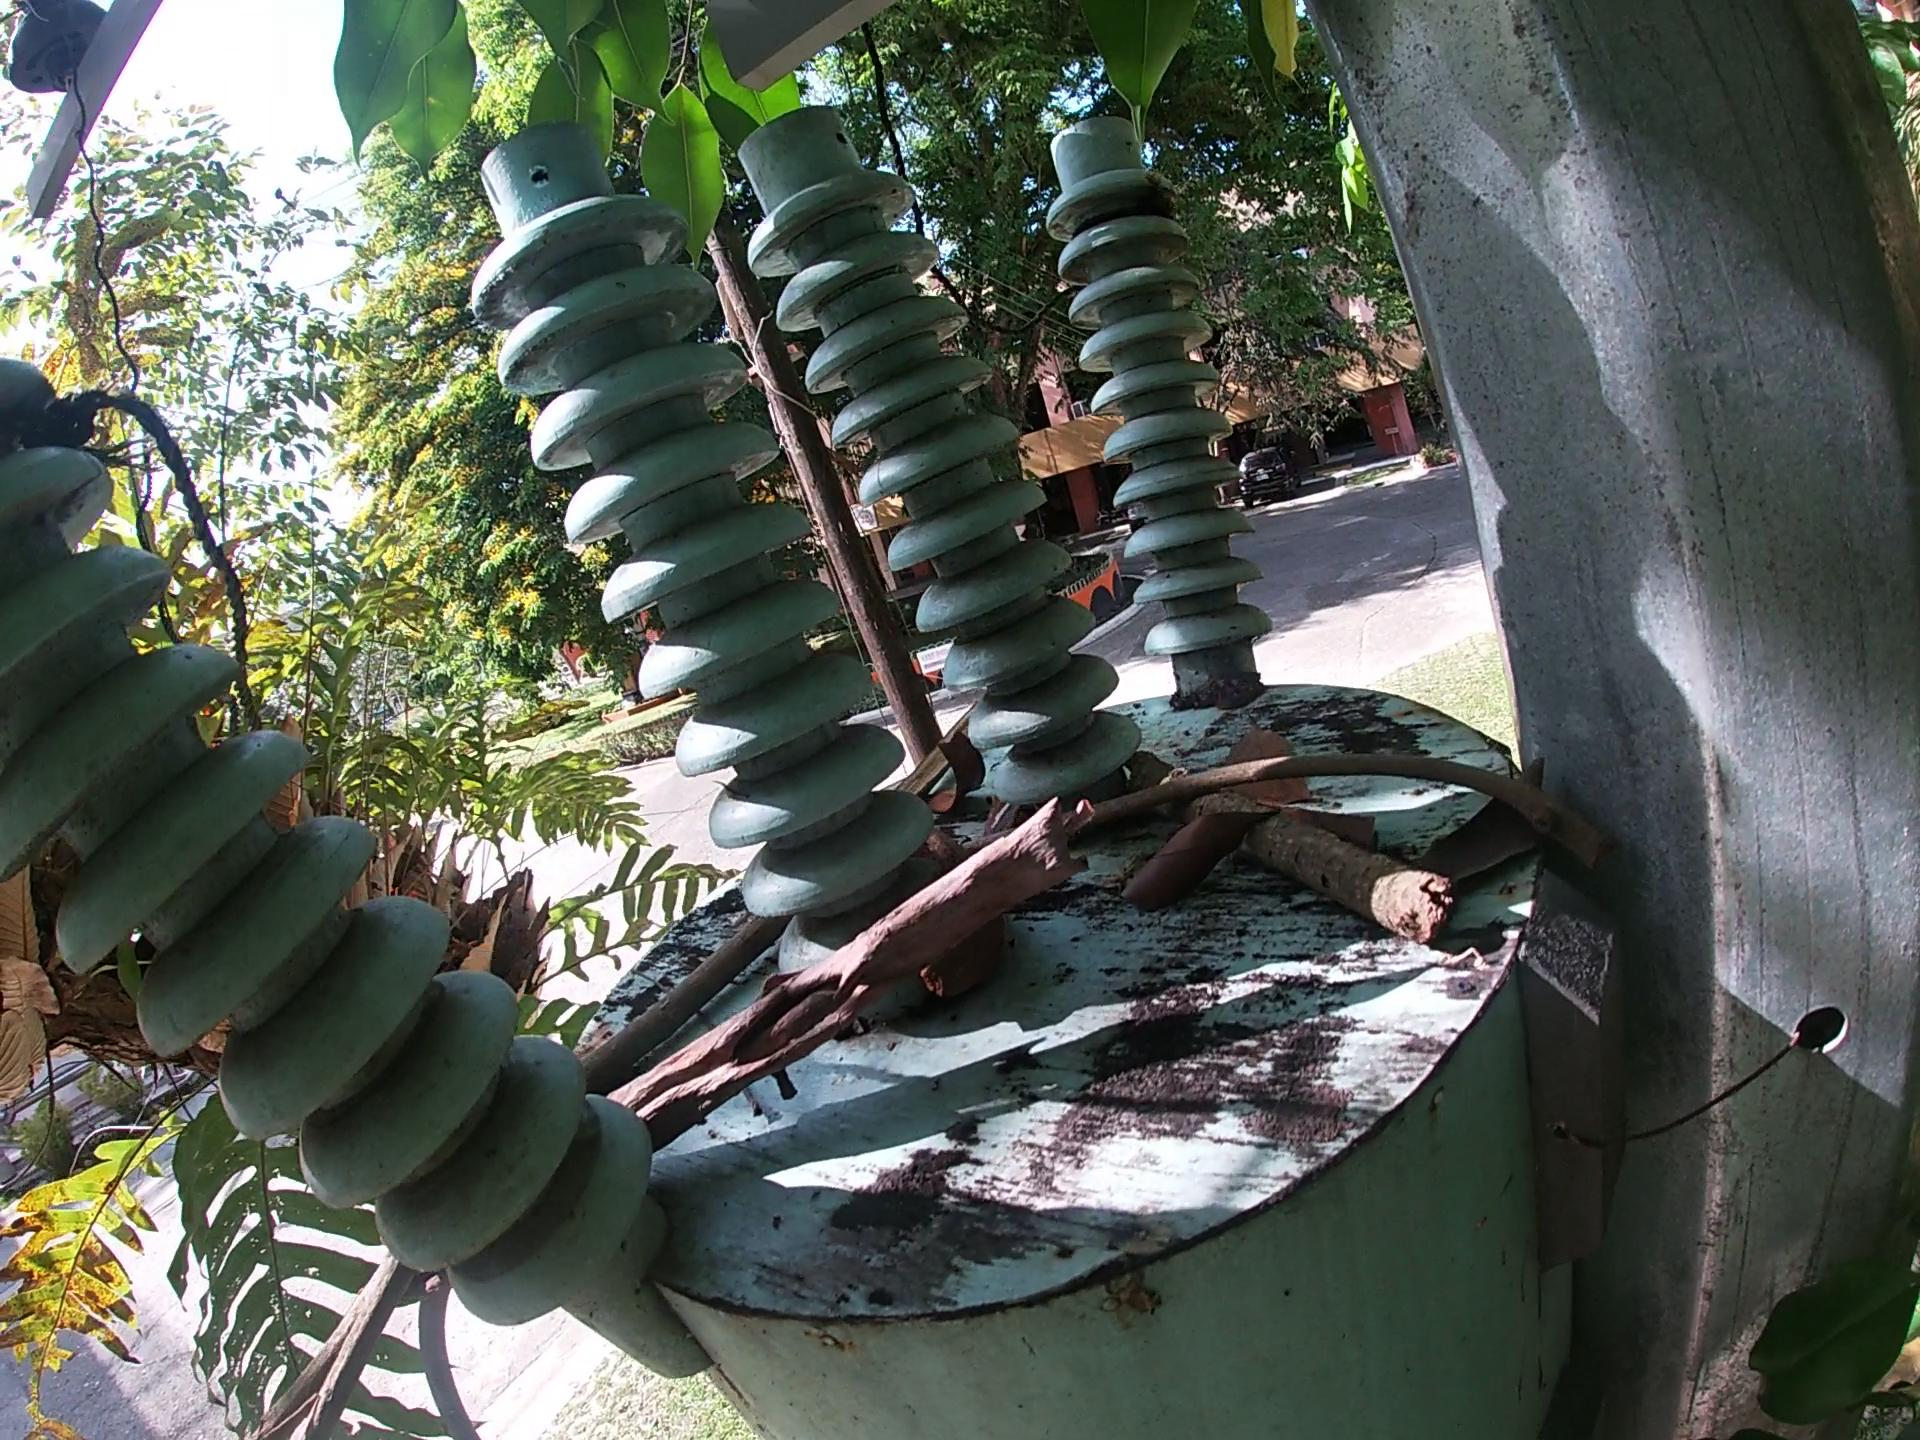leaf: (1104, 803, 1288, 917), (1414, 753, 1557, 892), (1226, 722, 1308, 808)
mahogany fruit: (909, 818, 1008, 1012), (916, 728, 987, 827)
tree branch: (608, 793, 1101, 1151), (1079, 747, 1624, 879), (1123, 747, 1460, 948), (579, 908, 794, 1097), (234, 1243, 410, 1440)
